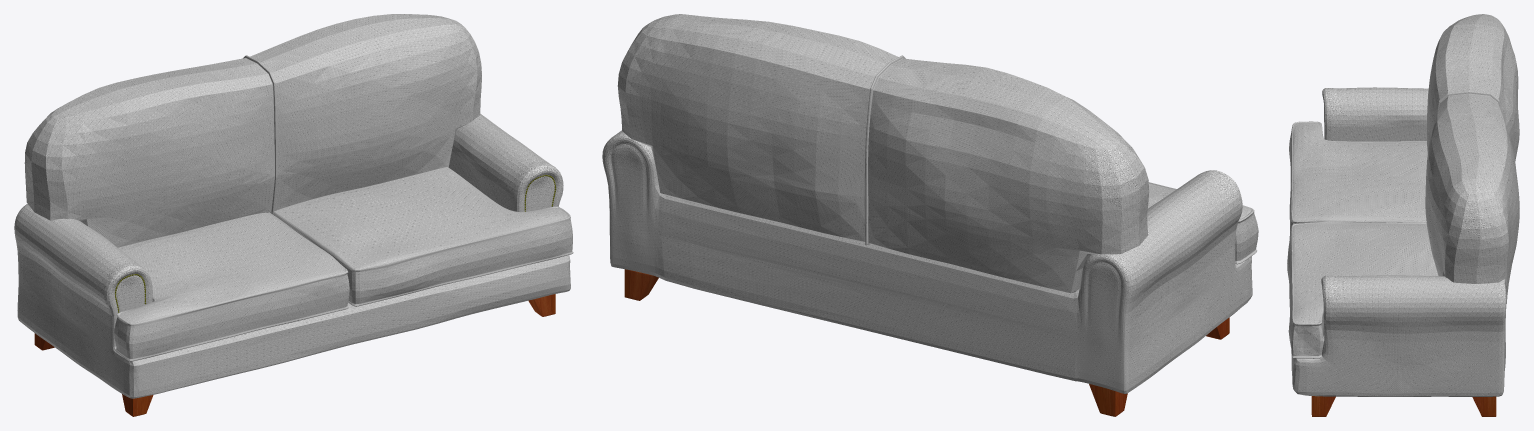
Rendered from Leather_sofa.obj.
3 renders of one model, left to right at view 1: azimuth 30°, elevation 25°; view 2: azimuth 150°, elevation 25°; view 3: azimuth 270°, elevation 25°, orthographic. The views are drawn at different scales.
Parts seen in each view (by area): view 1: back_cushion_Cube.003, sofa_bse_Cube, left_cushion_Cube.002, right_cushion_Cube.001; view 2: back_cushion_Cube.003, sofa_bse_Cube, right_cushion_Cube.001, cubeleg3_Cube.009, cubeleg4_Cube.010; view 3: sofa_bse_Cube, back_cushion_Cube.003, right_cushion_Cube.001, left_cushion_Cube.002, cubeleg1_Cube.004, cubeleg4_Cube.010.
Boxes of the visible parts, left/top/right/bottom form: back_cushion_Cube.003: left=24, top=14, right=481, bottom=247; sofa_bse_Cube: left=14, top=114, right=570, bottom=398; left_cushion_Cube.002: left=273, top=167, right=573, bottom=306; right_cushion_Cube.001: left=114, top=212, right=349, bottom=361; back_cushion_Cube.003: left=617, top=14, right=1149, bottom=293; sofa_bse_Cube: left=602, top=130, right=1252, bottom=393; right_cushion_Cube.001: left=1148, top=182, right=1258, bottom=264; cubeleg3_Cube.009: left=1089, top=384, right=1127, bottom=416; cubeleg4_Cube.010: left=624, top=269, right=658, bottom=300; sofa_bse_Cube: left=1291, top=87, right=1506, bottom=396; back_cushion_Cube.003: left=1425, top=14, right=1519, bottom=303; right_cushion_Cube.001: left=1289, top=121, right=1427, bottom=232; left_cushion_Cube.002: left=1287, top=221, right=1438, bottom=358; cubeleg1_Cube.004: left=1311, top=396, right=1335, bottom=416; cubeleg4_Cube.010: left=1472, top=396, right=1496, bottom=416.
Size of the model in its own units: 1.92 by 1 by 0.9031.
Materials: 3 (2 with a texture image).
